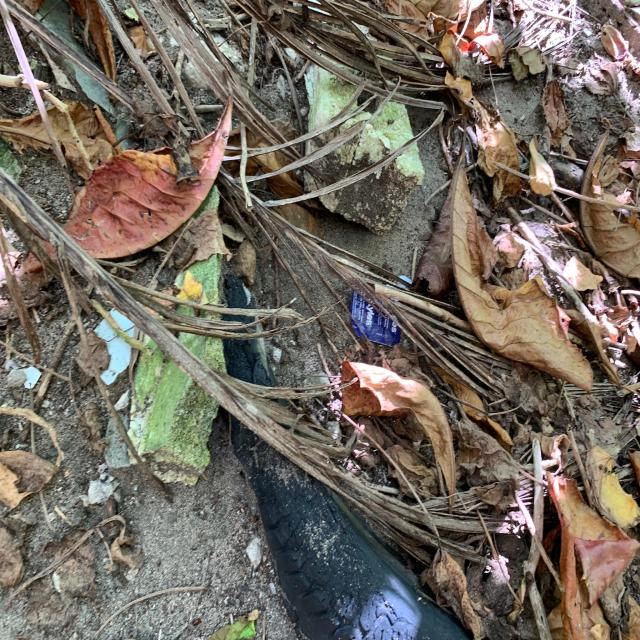litter: (228, 276, 492, 639), (349, 269, 411, 348)
